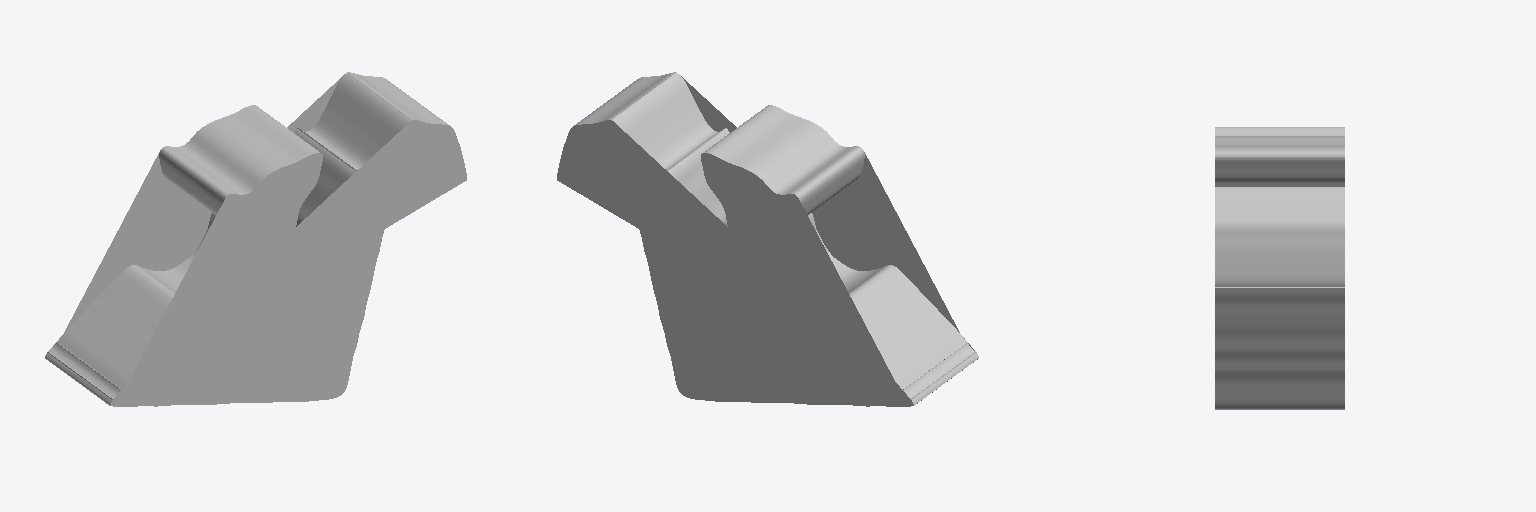
3 views of the same model, side by side, from view 1: azimuth 30°, elevation 25°; view 2: azimuth 150°, elevation 25°; view 3: azimuth 270°, elevation 25° (orthographic).
Visible parts, largest first — view 1: 平面; view 2: 平面; view 3: 平面.
Part boxes in pixels (bbox=[...]): 平面: bbox=[45, 72, 466, 406]; 平面: bbox=[557, 72, 978, 406]; 平面: bbox=[1215, 127, 1344, 409].
Size of the model in its own units: 0.6335 by 0.4391 by 0.2.